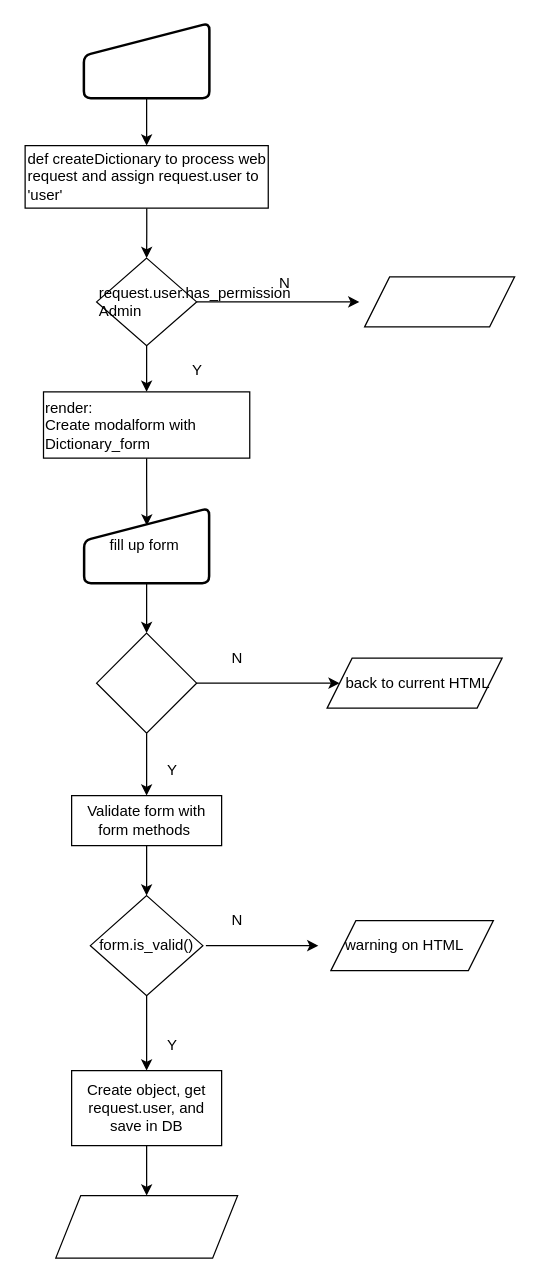
Some shapes in this 536 by 1280 pixel diagram are drawn without their labels. Each missing label, with the box of its shape:
back to index HTML: (363, 276, 515, 327)
Back to redirectedHTML New object or modified objec in DB: (54, 1194, 238, 1258)
Click "+" New botton: (82, 21, 210, 99)
form submit?: (95, 632, 197, 733)
